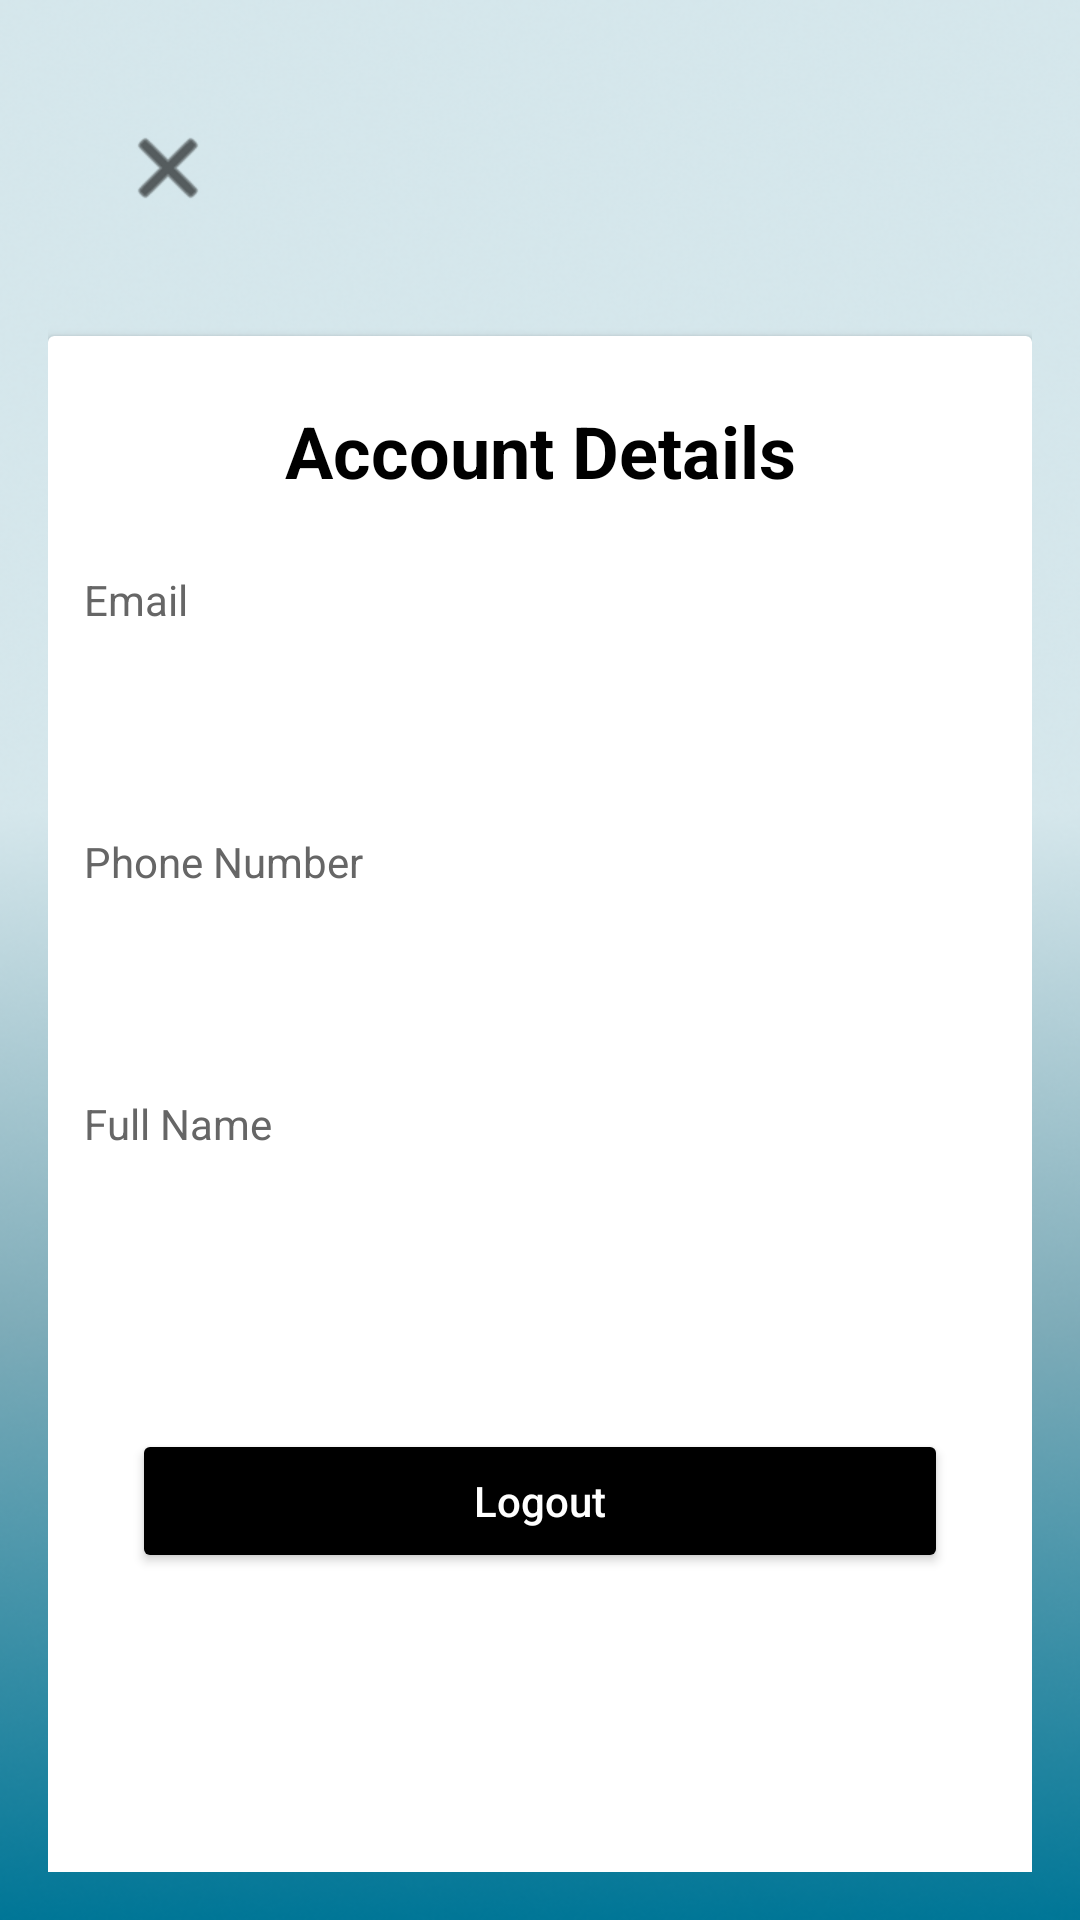

Icon click points for this 1080x1920 phone screenshot, format [x,y]:
close clear cancel: [168,168]
